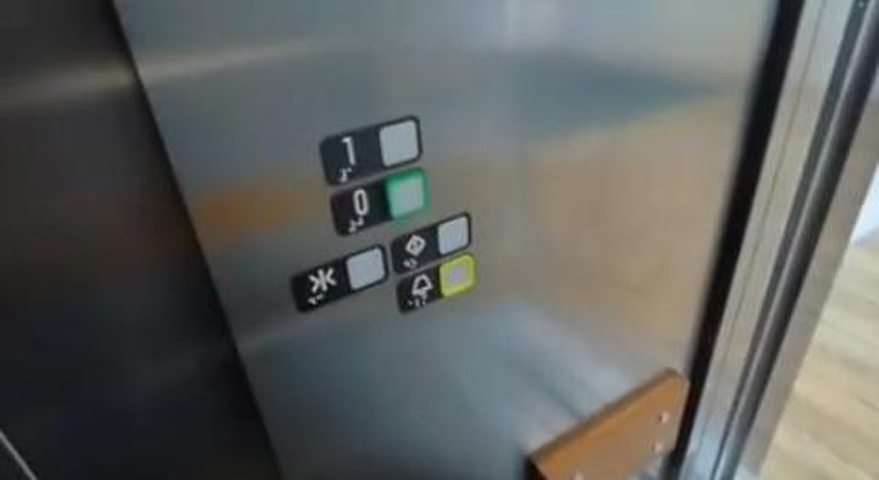0: (326, 166, 429, 240)
1: (316, 112, 424, 185)
alarm: (393, 252, 477, 314)
close: (288, 243, 394, 313)
open: (393, 208, 476, 274)
